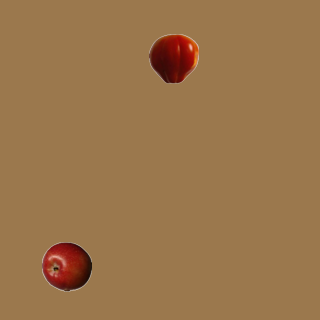Apple Braeburn: (41, 241, 91, 291)
Tomato 1: (148, 33, 198, 83)
